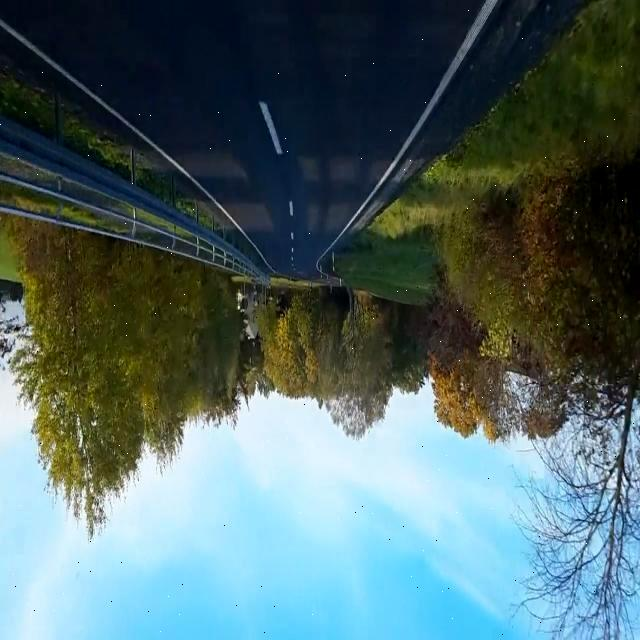lane: (0, 20, 267, 264), (336, 1, 498, 240), (259, 101, 282, 155), (289, 202, 292, 216)
road: (2, 1, 484, 279)
